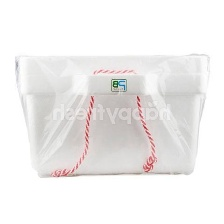foam_box: (11, 47, 215, 182)
